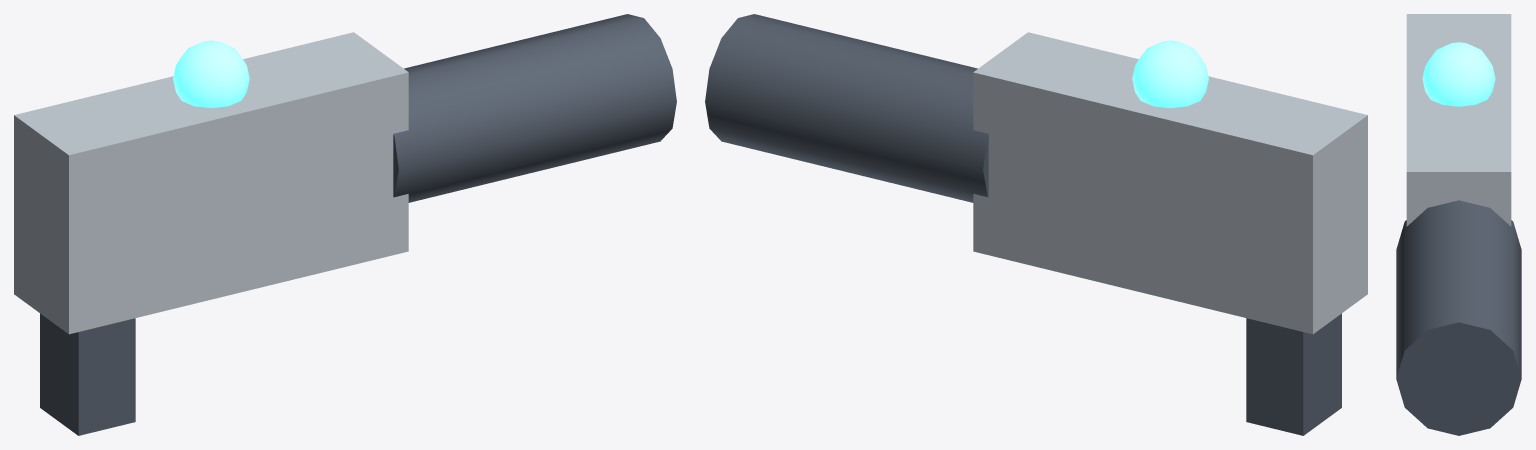
The model's file is gun_cannon.glb.
The picture shows the model from 3 angles, left to right: view 1: azimuth 30°, elevation 25°; view 2: azimuth 150°, elevation 25°; view 3: azimuth 270°, elevation 25°; orthographic projection. The views are drawn at different scales.
Parts seen in each view (by area): view 1: body, barrel, core; view 2: body, barrel, core; view 3: barrel, body, core.
Part boxes in pixels (x1,y1,x2,y2): body: [14, 32, 408, 435]; barrel: [393, 14, 676, 202]; core: [173, 40, 249, 108]; body: [973, 32, 1367, 435]; barrel: [705, 14, 988, 202]; core: [1132, 40, 1208, 108]; barrel: [1396, 200, 1521, 435]; body: [1406, 14, 1511, 226]; core: [1422, 42, 1495, 106].
Size of the model in its own units: 0.6337 by 0.3425 by 0.12.
